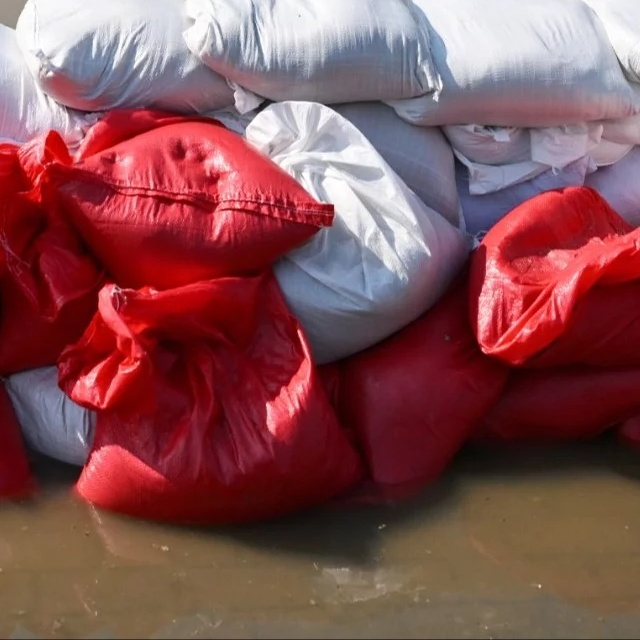sandbag: (60, 272, 359, 521), (245, 102, 469, 361), (60, 111, 335, 288), (339, 276, 507, 502), (390, 0, 640, 128), (471, 190, 640, 368), (186, 0, 426, 101), (19, 0, 230, 112), (339, 104, 459, 226), (0, 25, 98, 146), (483, 372, 640, 438), (4, 369, 96, 467), (583, 0, 640, 82)
